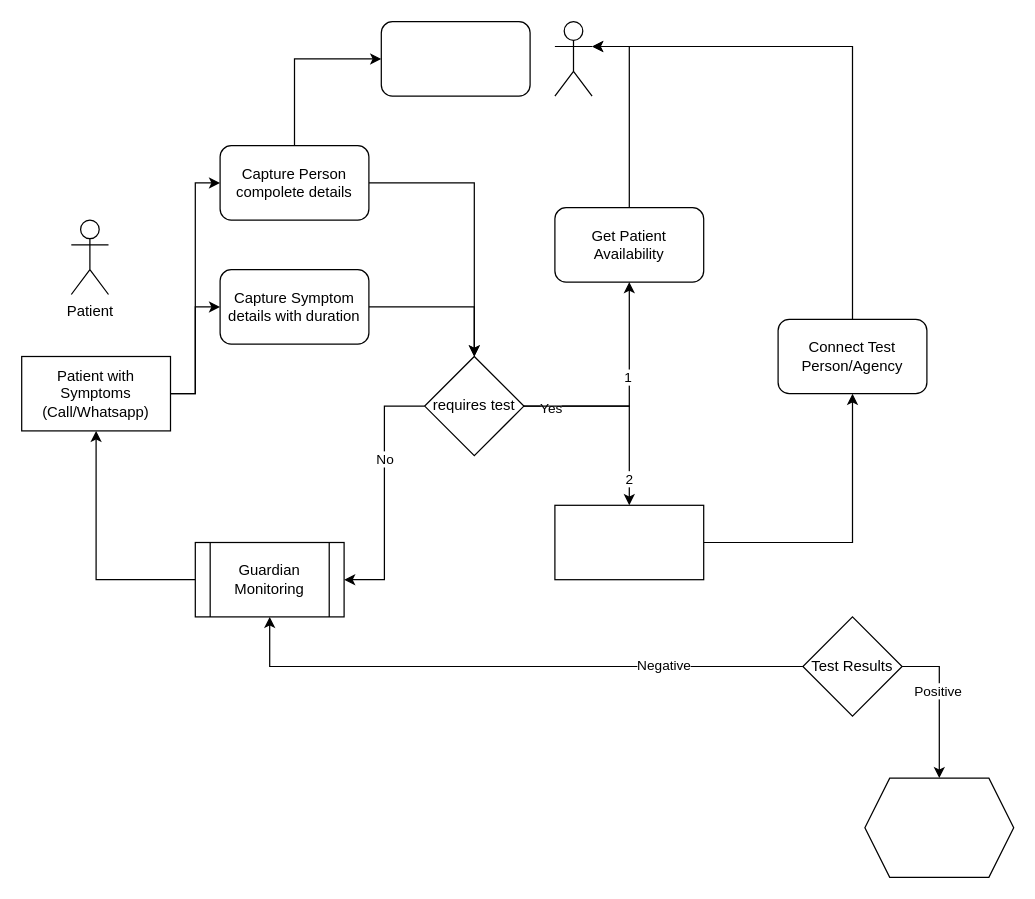
Image size: 1035x899. Some labels were removed from this diagram. The shapes that lost their labels are listed below. From the top down, each one's box as (x1, y1, x2, y2) in pixels, then its label:
(380, 20, 530, 96): Family/Gaurdian details
(554, 20, 592, 96): Family/Guardians
(554, 504, 704, 580): Raise a test request (Time , Location, Contact)
(864, 777, 1014, 877): Covid Positive Patient Support
